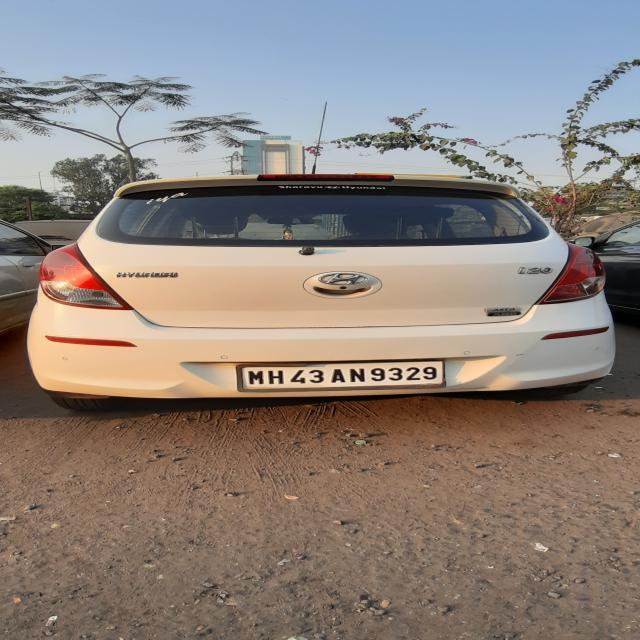Number-Plate: (242, 365, 438, 385)
